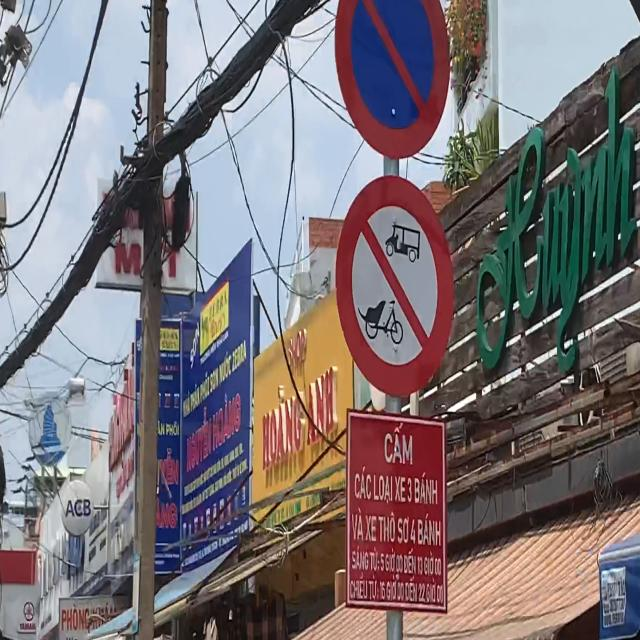Cam do: (334, 0, 449, 161)
